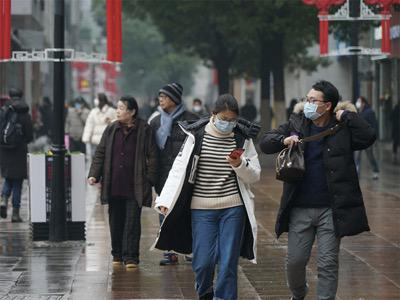with_mask: (301, 94, 324, 121), (213, 113, 237, 133), (354, 100, 363, 112)
without_mask: (115, 103, 129, 121), (157, 93, 171, 108)
